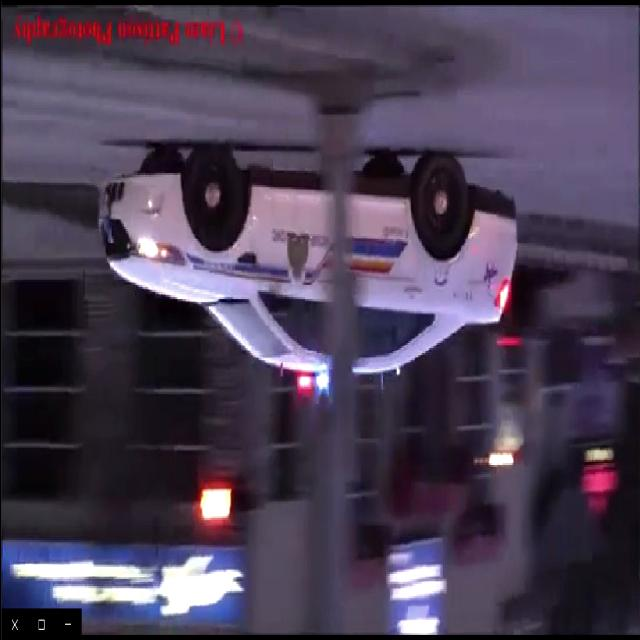emergency: (94, 148, 514, 400)
